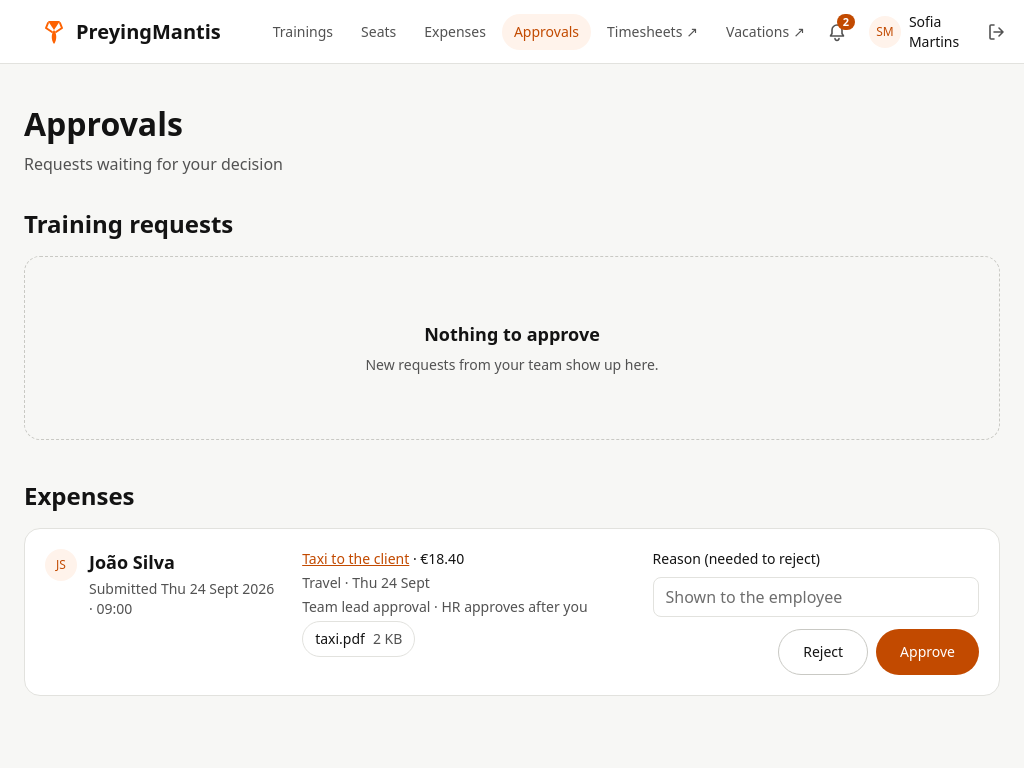
approving expenses › lets the team lead approve, and the row leaves
Expected: the element "João Silva" shows "Team lead approval", [302,597,588,616]
Expected: the button with aria-label "Download taxi.pdf" is shown, [302,621,415,657]
Step 1. Click the button "Approve" → x=928, y=652, box [876,629,979,675]
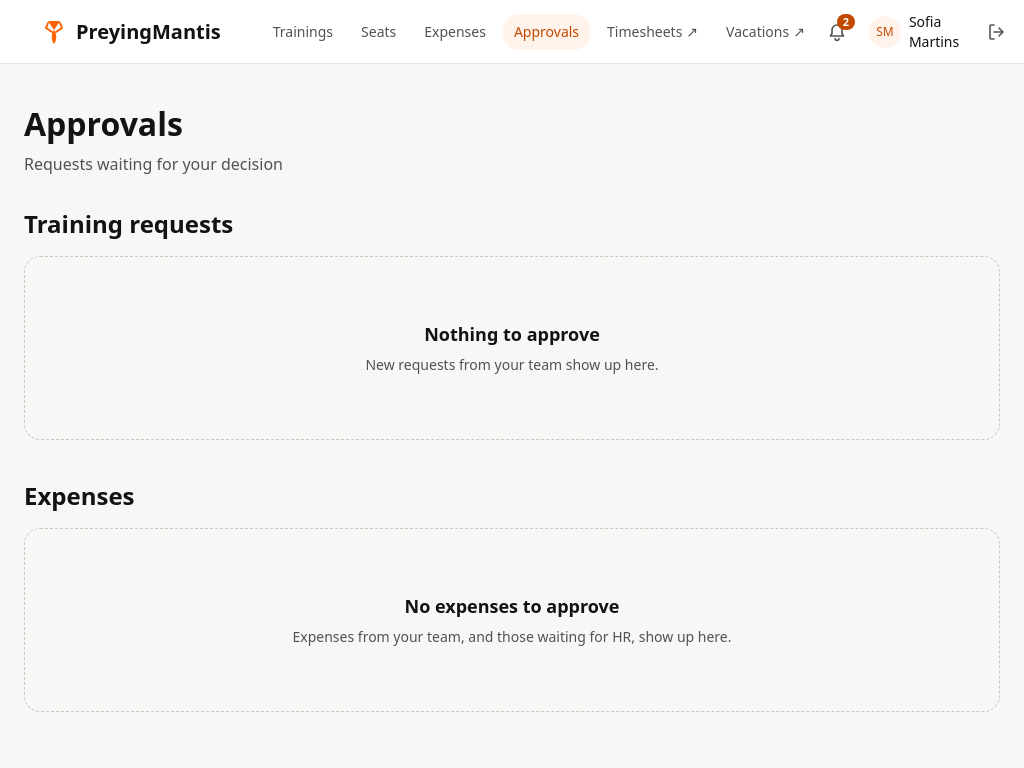
Result: the text "No expenses to approve" is shown at [404,593,620,619]
